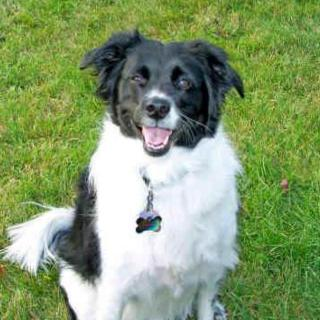dog: (73, 18, 251, 159)
nose: (142, 93, 172, 120)
